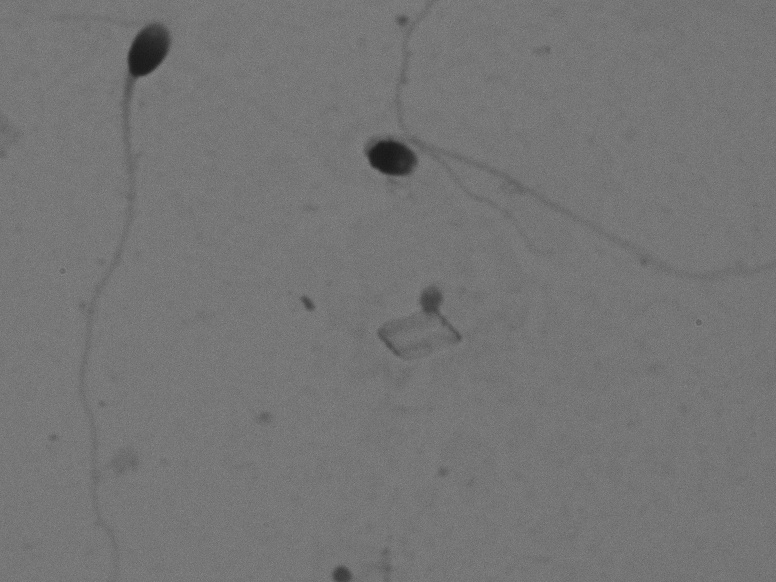Abnormal: (328, 114, 754, 315)
Normal: (62, 11, 194, 572)
